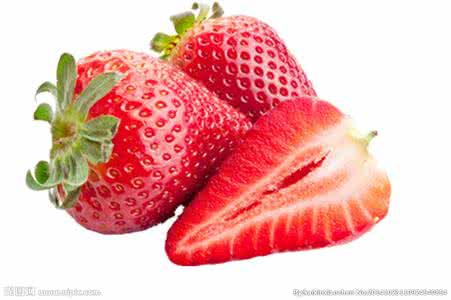strawberry: (32, 46, 254, 232), (160, 94, 404, 263), (160, 1, 319, 100)
